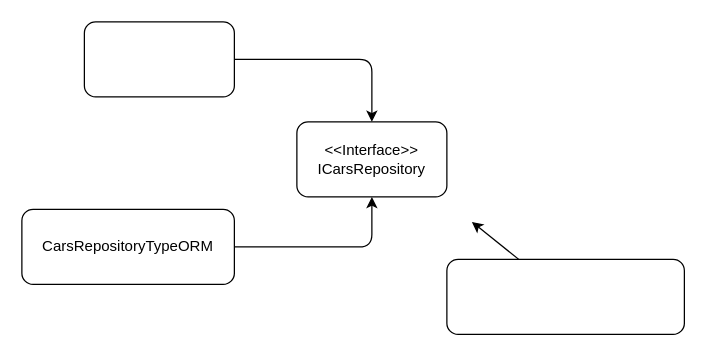
This 706x356 diagram has some shape labels left out. Each missing label, with the centre of its shape:
"CarsRepositorySequelize" goes at (565,296).
"CreateCarUseCase" goes at (158,59).
